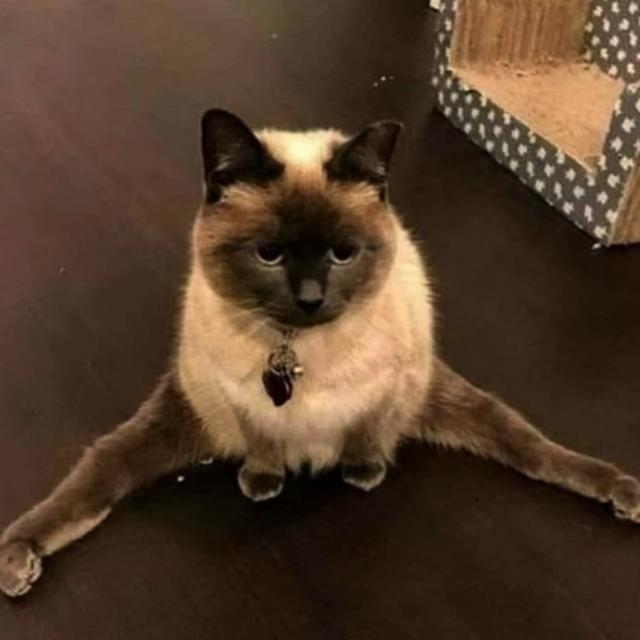da khoe manh: (286, 326, 424, 451)
